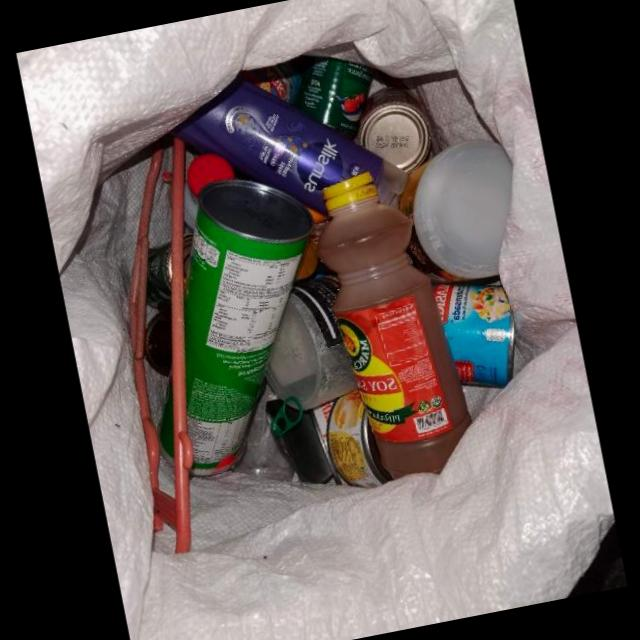chai_nhua: (318, 171, 471, 478), (170, 75, 410, 215), (184, 153, 235, 229)
nhom: (183, 178, 313, 476), (433, 283, 515, 389), (266, 396, 343, 485), (326, 389, 394, 488), (358, 86, 431, 173), (296, 57, 374, 138), (240, 63, 302, 104), (144, 312, 172, 377), (146, 243, 172, 309)
